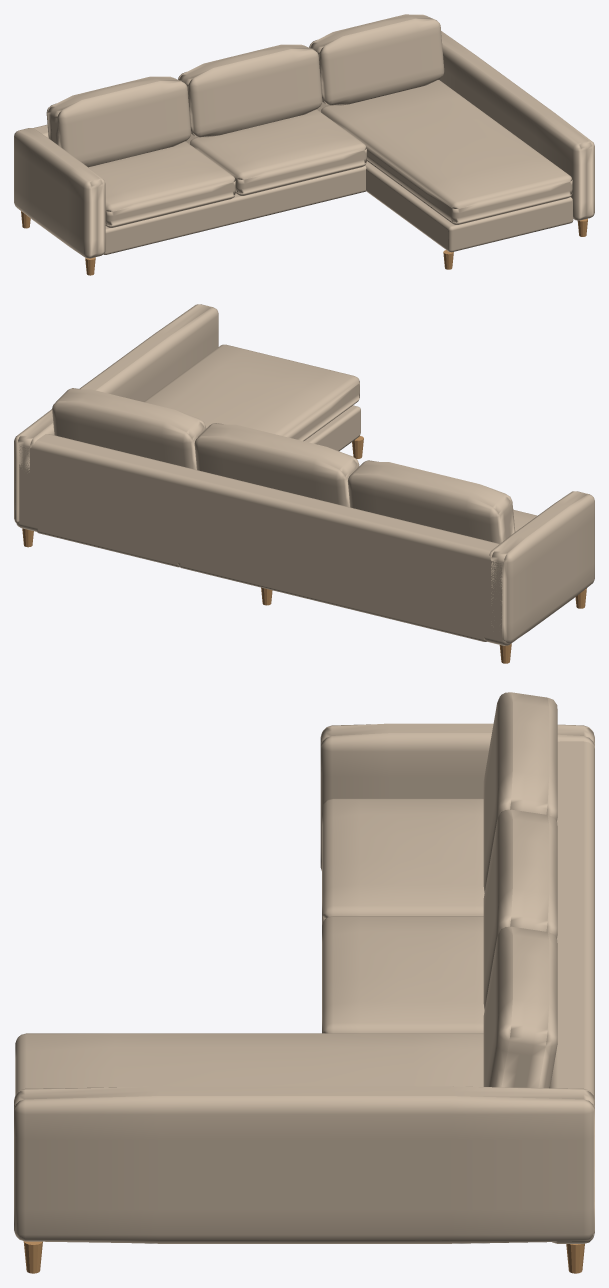
The model's file is sofa_l_right__l.glb.
3 views of the same model, one above another, from view 1: azimuth 30°, elevation 25°; view 2: azimuth 150°, elevation 25°; view 3: azimuth 270°, elevation 25° (orthographic). The views are drawn at different scales.
Parts seen in each view (by area): view 1: sofa_l_right__l; view 2: sofa_l_right__l; view 3: sofa_l_right__l.
Boxes of the visible parts, x1=… form: sofa_l_right__l: x1=14, y1=14, x2=594, y2=275; sofa_l_right__l: x1=14, y1=304, x2=594, y2=663; sofa_l_right__l: x1=14, y1=692, x2=594, y2=1273.
Bounding box in the file's own units: 2.8 × 0.82 × 1.8.
